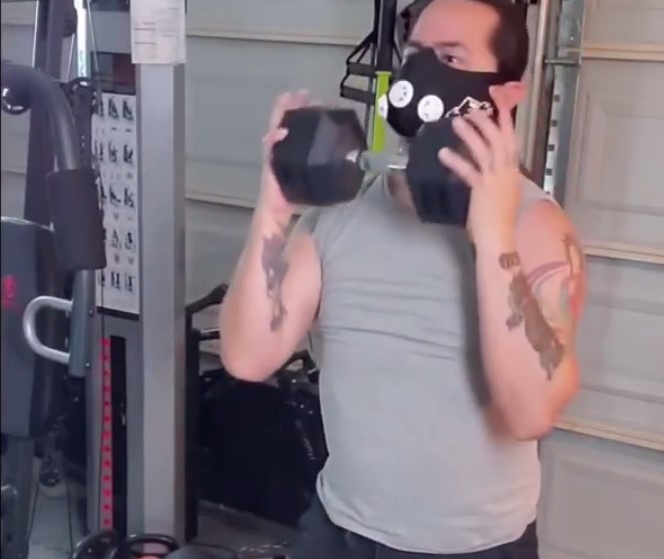face_with_mask: (370, 1, 529, 143)
